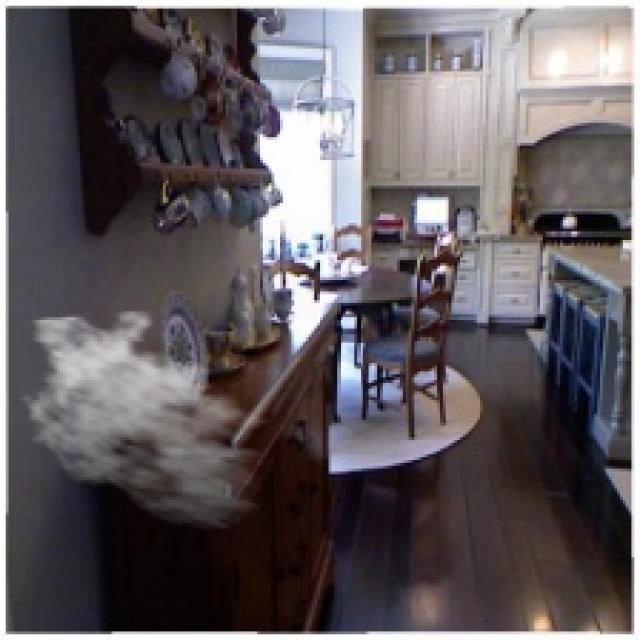Smoke: (17, 308, 283, 532)
